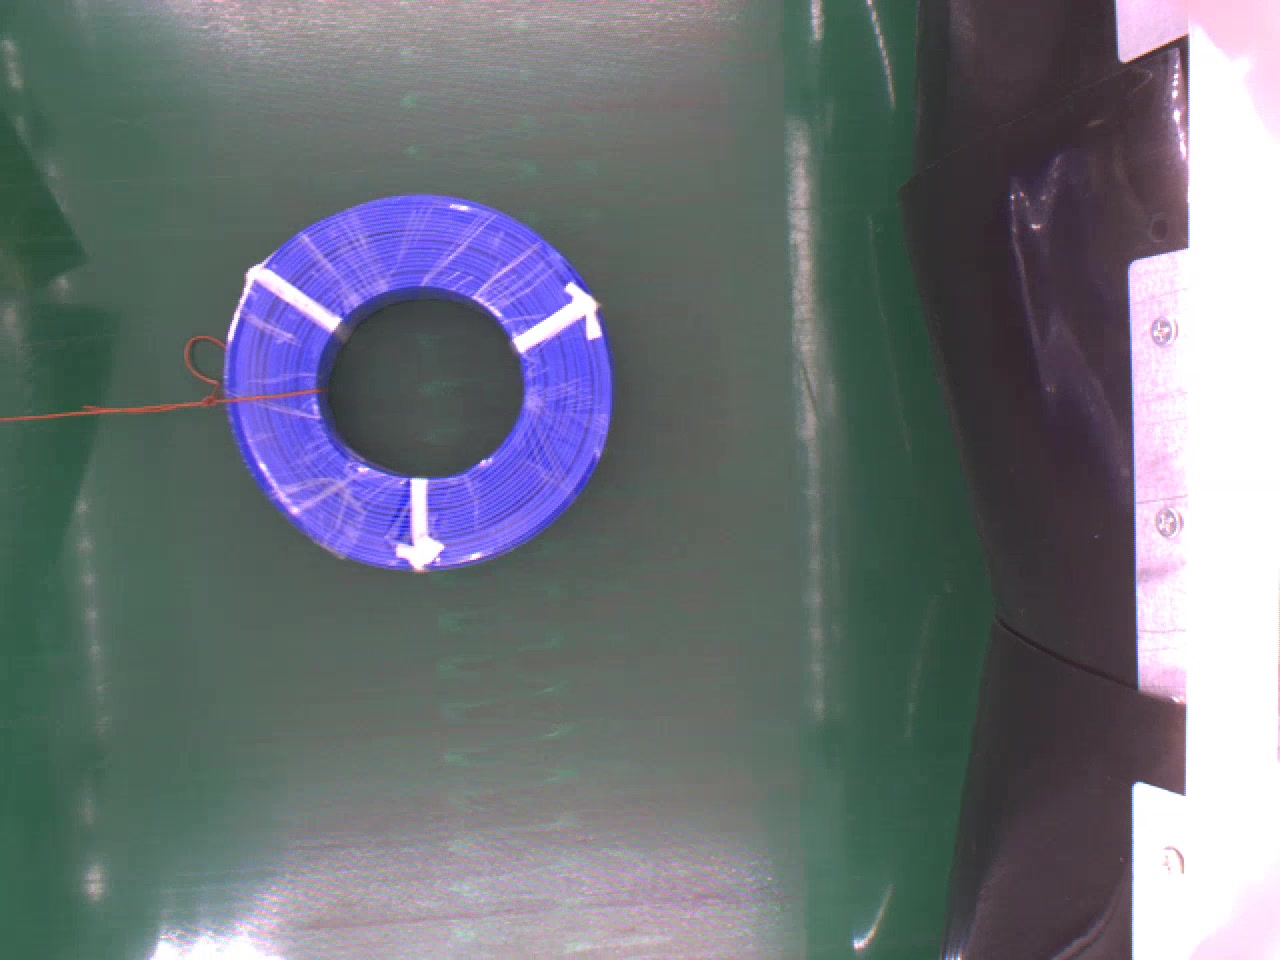blue: (218, 190, 617, 583)
